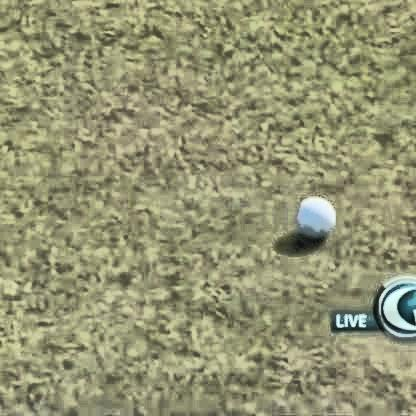golfball: (294, 195, 333, 234)
